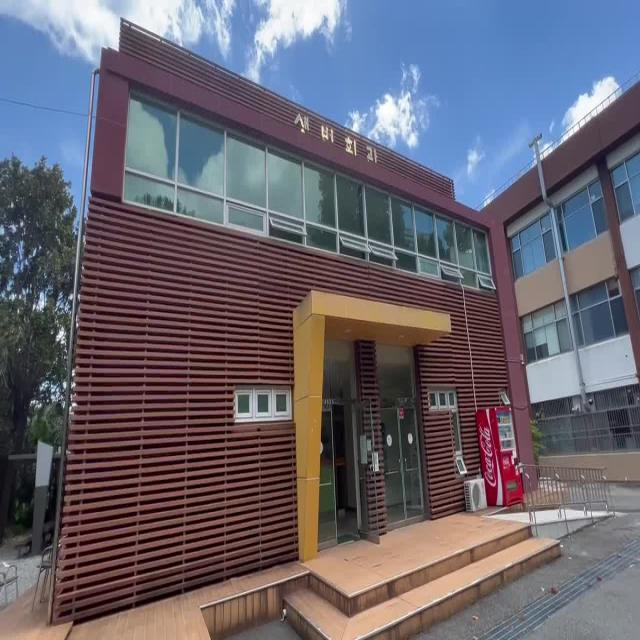building: (64, 32, 508, 517)
